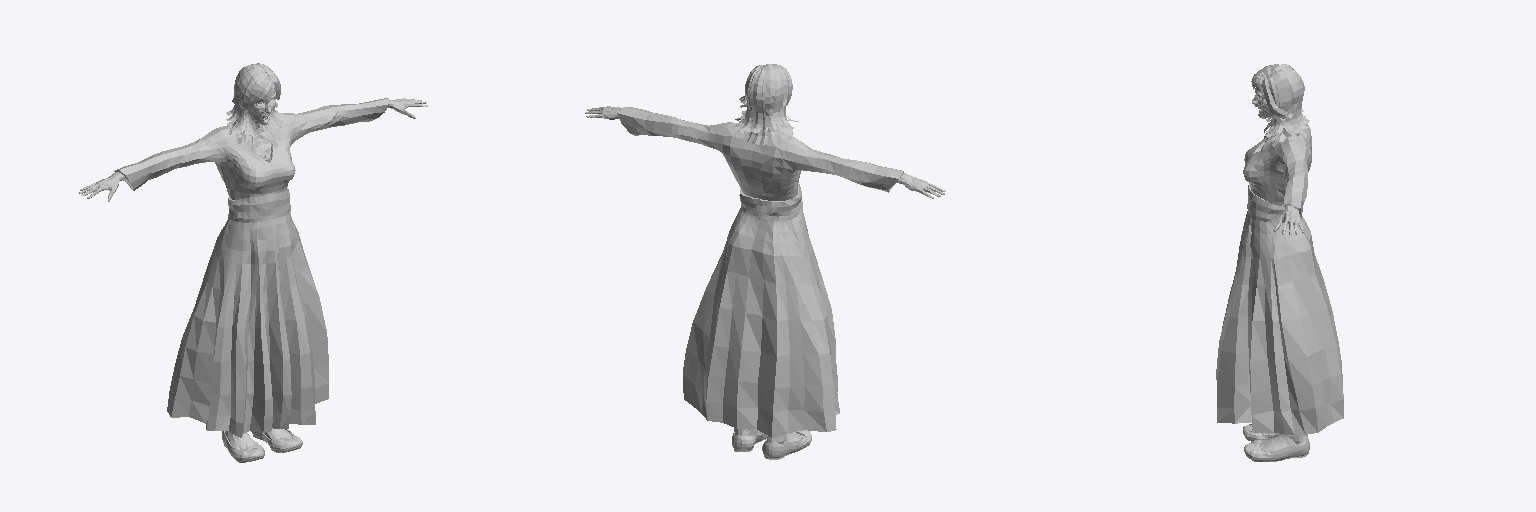
The model's file is woman in the red tiger dress zombie.obj.
3 renders of one model, left to right at view 1: azimuth 30°, elevation 25°; view 2: azimuth 150°, elevation 25°; view 3: azimuth 270°, elevation 25°, orthographic.
Parts seen in each view (by area): view 1: Tops, Hair, Body, Shoes; view 2: Tops, Hair, Body, Shoes; view 3: Tops, Hair, Body, Shoes.
Part boxes in pixels (x1,y1,x2,y2): Tops: (114,98,389,437); Hair: (226,63,283,152); Body: (79,90,427,449); Shoes: (222,429,302,462); Tops: (617,107,903,437); Hair: (735,64,798,144); Body: (585,106,945,443); Shoes: (732,430,811,459); Tops: (1216,106,1343,434); Hair: (1251,64,1309,149); Body: (1252,84,1306,451); Shoes: (1243,424,1309,461).
Size of the model in its own units: 172 by 178 by 54.13.